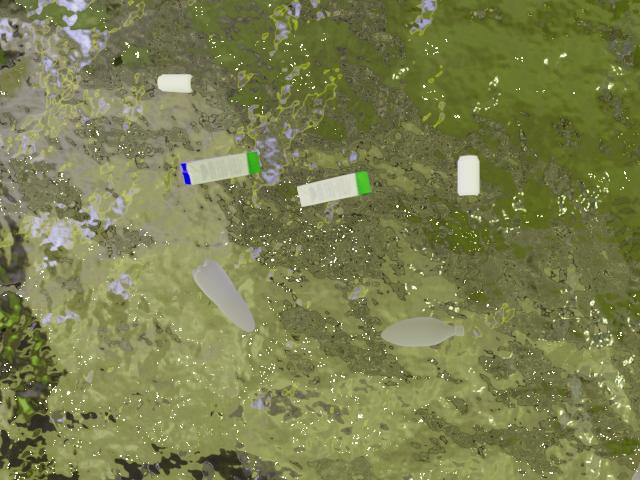Metal: (430, 139, 497, 207), (147, 65, 202, 99)
Plastic: (184, 242, 262, 354), (378, 306, 464, 361)
Trash: (160, 131, 274, 204), (287, 160, 383, 221)
